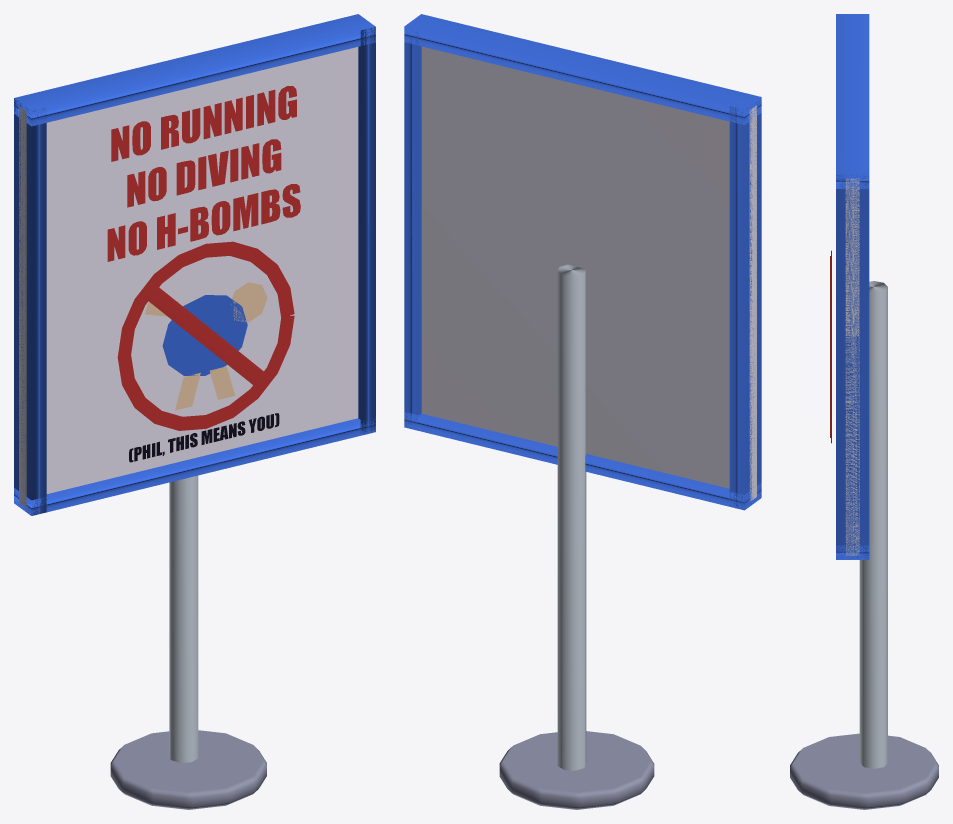
The model's file is pool_rules_sign.glb.
3 views of the same model, side by side, from view 1: azimuth 30°, elevation 25°; view 2: azimuth 150°, elevation 25°; view 3: azimuth 270°, elevation 25° (orthographic). The views are drawn at different scales.
Visible parts, largest first — view 1: Sign; view 2: Sign; view 3: Sign.
Boxes of the visible parts, x1,y1,x2,y2 form: Sign: (14,14,375,809); Sign: (404,14,761,809); Sign: (790,14,938,809).
Size of the model in its own units: 0.8 by 1.6 by 0.3148.
